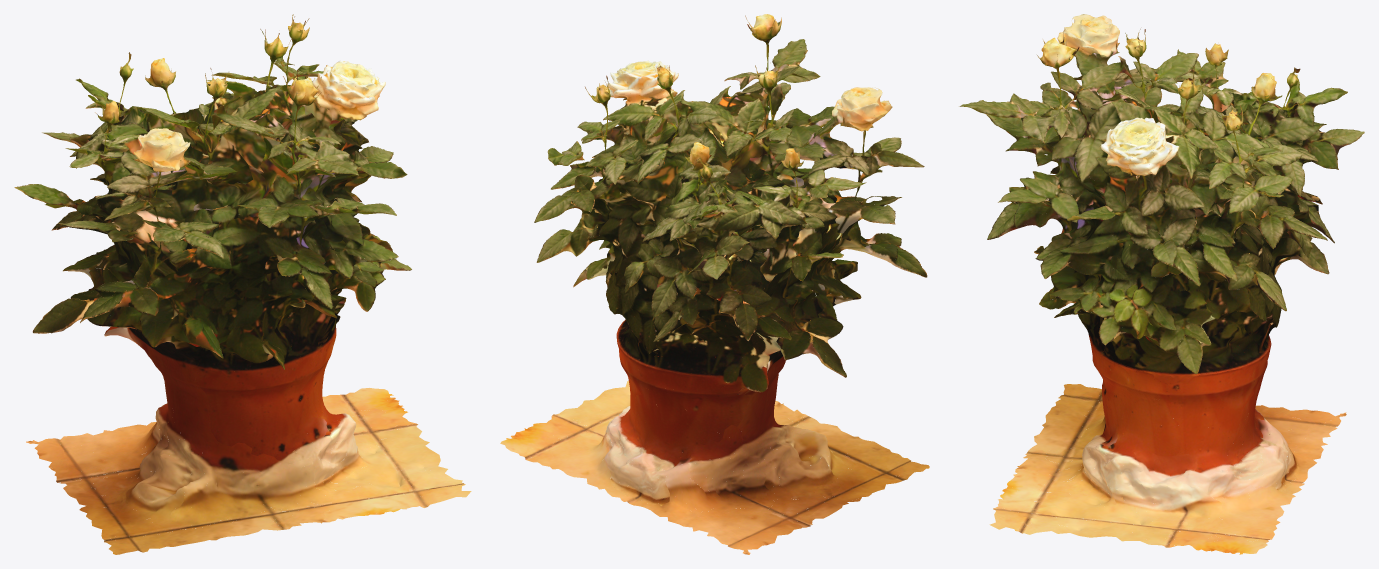
The model's file is obj_rose_3dst36_92d0c5.glb.
3 views of the same model, side by side, from view 1: azimuth 30°, elevation 25°; view 2: azimuth 150°, elevation 25°; view 3: azimuth 270°, elevation 25° (orthographic). The views are drawn at different scales.
Parts seen in each view (by area): view 1: obj_rose_3dst36_92d0c5; view 2: obj_rose_3dst36_92d0c5; view 3: obj_rose_3dst36_92d0c5.
Part boxes in pixels (left/top/right/bottom): obj_rose_3dst36_92d0c5: left=14, top=14, right=471, bottom=554; obj_rose_3dst36_92d0c5: left=500, top=14, right=929, bottom=554; obj_rose_3dst36_92d0c5: left=959, top=14, right=1364, bottom=554.
Size of the model in its own units: 0.4069 by 0.45 by 0.3783.
2 materials, 1 textured.
